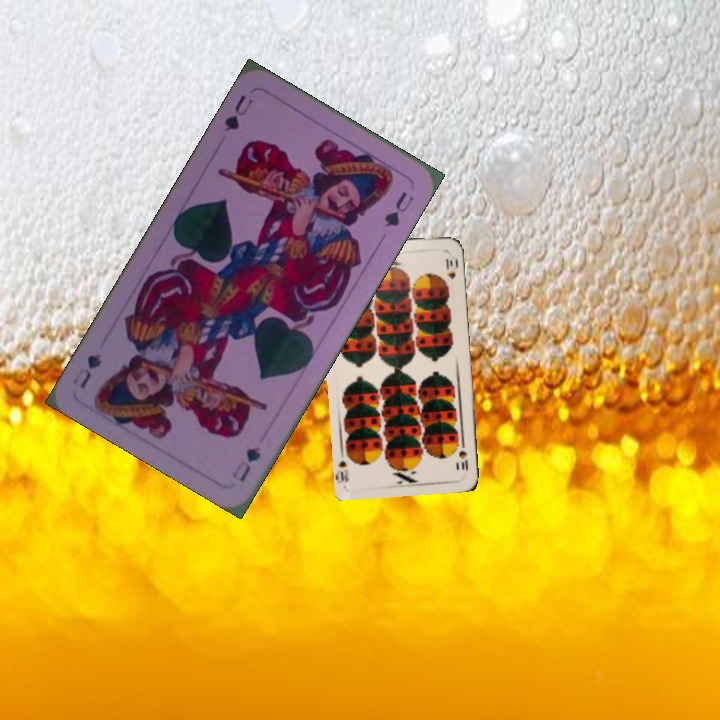GU: (227, 442, 264, 485), (220, 90, 256, 134)
S10: (455, 437, 471, 473)
